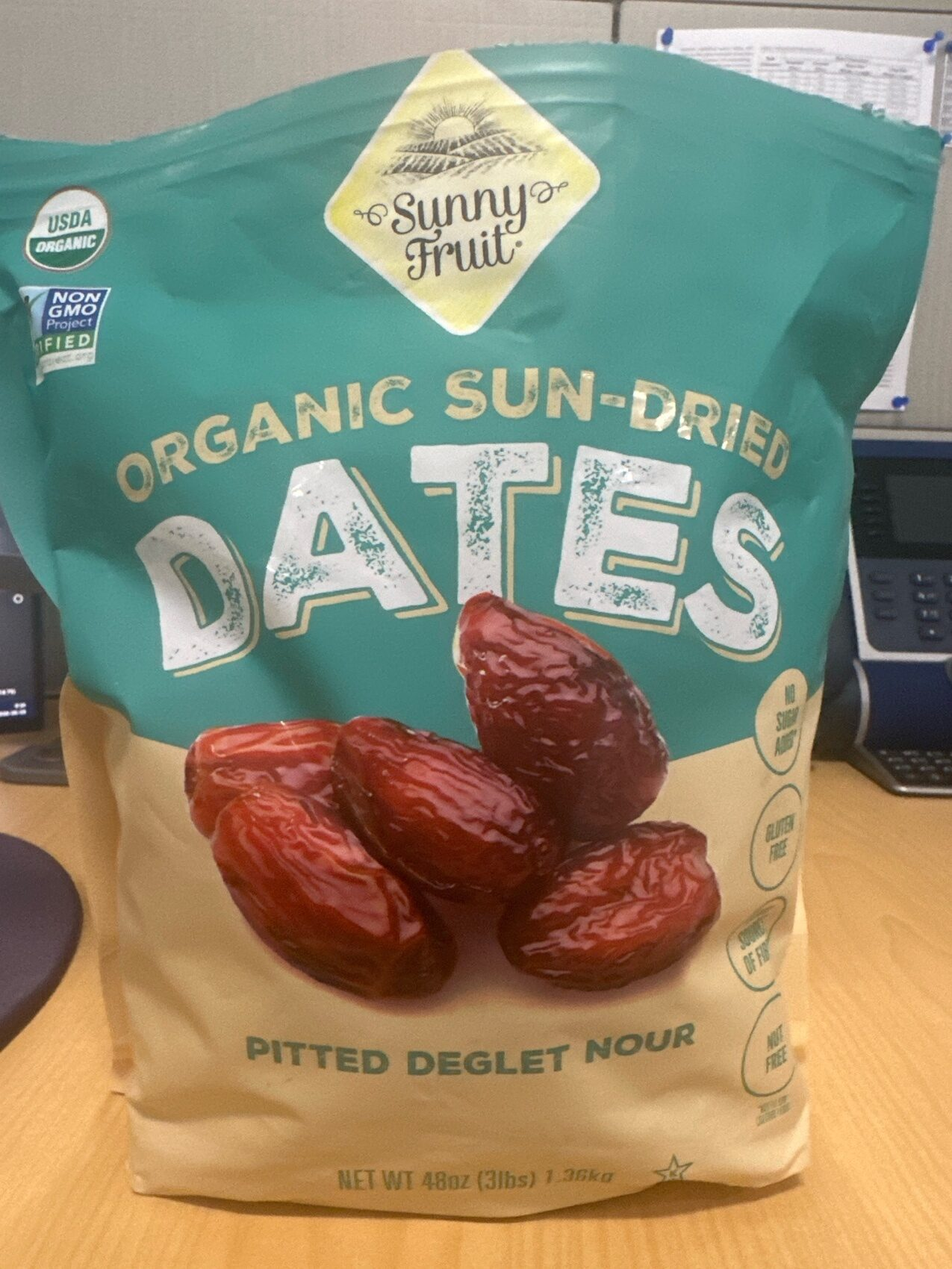Organic Sun-Dried Dates Pitted Deglet Nour: (48, 63, 904, 1206)
